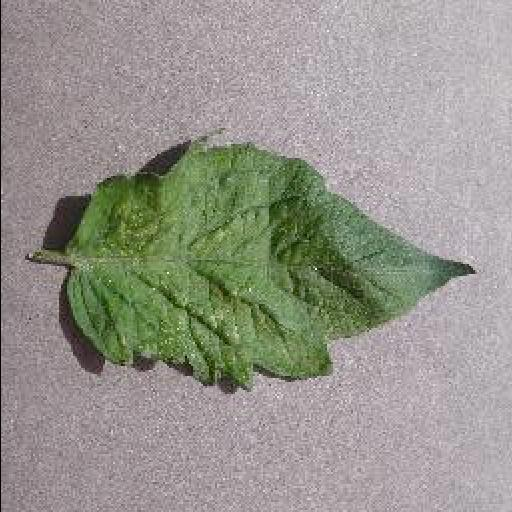disease_tomato: (64, 141, 478, 391)
